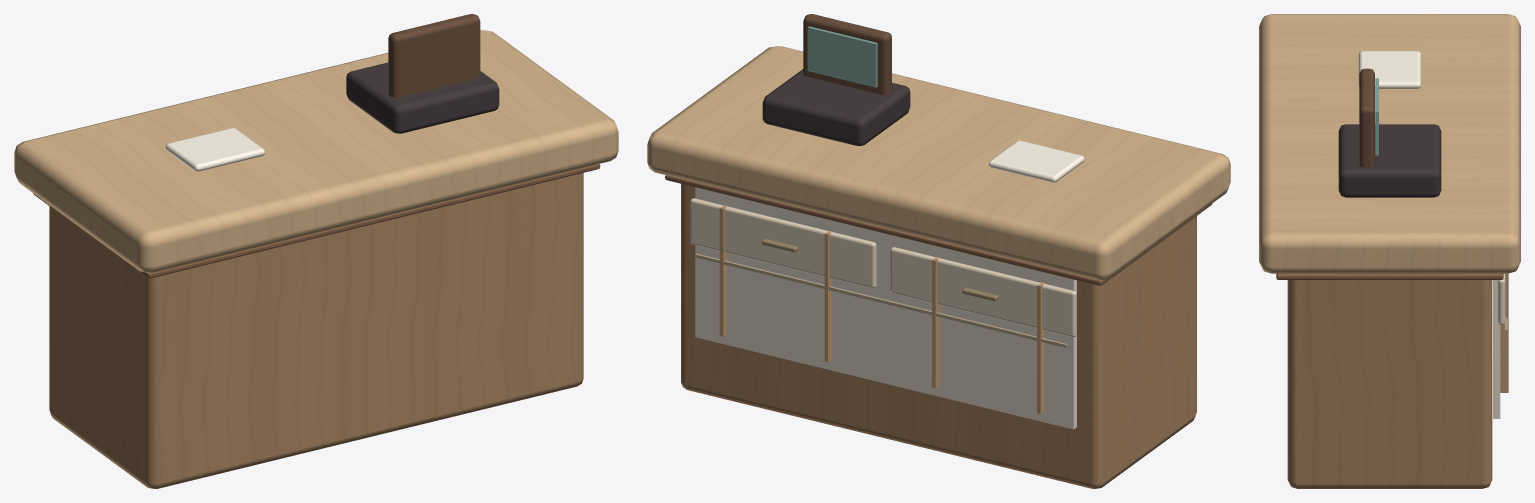
Rendered from counter.glb.
3 renders of one model, left to right at view 1: azimuth 30°, elevation 25°; view 2: azimuth 150°, elevation 25°; view 3: azimuth 270°, elevation 25°, orthographic. The views are drawn at different scales.
Parts seen in each view (by area): view 1: counter; view 2: counter; view 3: counter.
Part boxes in pixels (x1,y1,x2,y2): counter: (14,14,618,488); counter: (647,14,1230,488); counter: (1259,14,1520,488).
Size of the model in its own units: 1.9 by 1.37 by 0.92.
13 materials, 6 textured.
